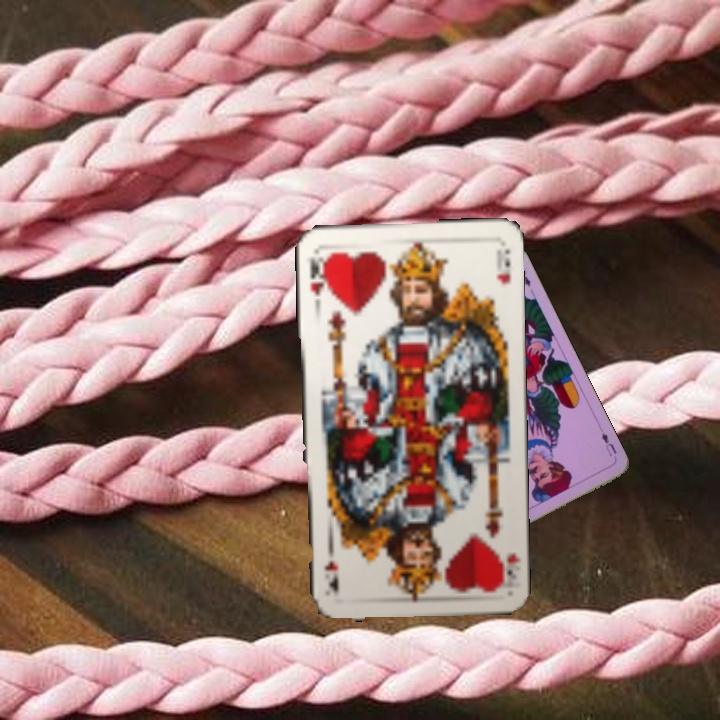EU: (597, 428, 620, 459)
HK: (494, 549, 522, 591), (305, 252, 330, 298)
